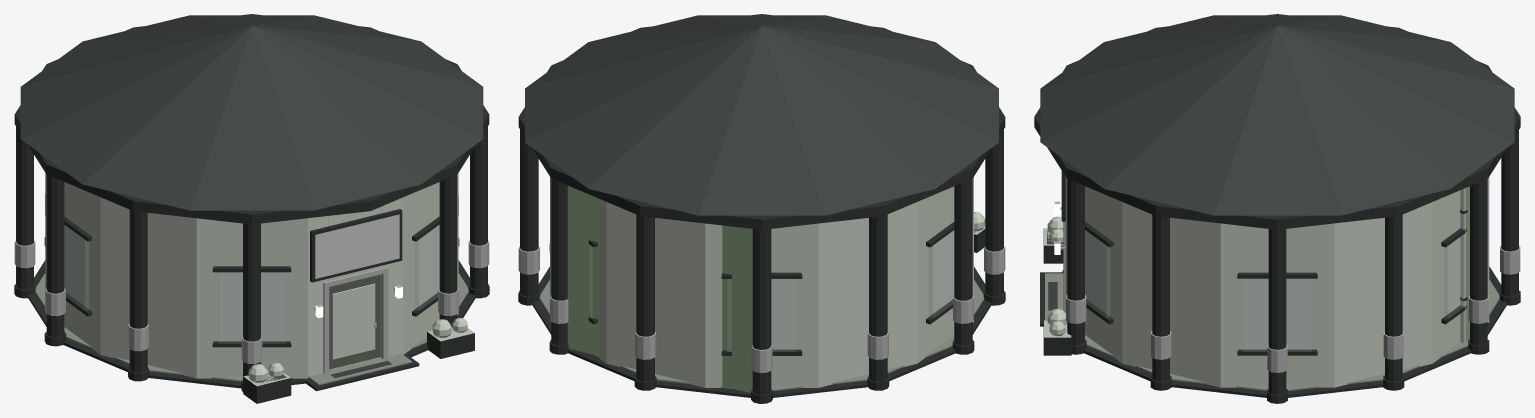
File: content2_v2.glb
The picture shows the model from 3 angles, left to right: view 1: azimuth 30°, elevation 25°; view 2: azimuth 150°, elevation 25°; view 3: azimuth 270°, elevation 25°; orthographic projection. The views are drawn at different scales.
Parts seen in each view (by area): view 1: SM_content2_v2_Shell, SM_content2_v2_Door, SM_content2_v2_Sign; view 2: SM_content2_v2_Shell; view 3: SM_content2_v2_Shell.
Boxes of the visible parts, x1,y1,x2,y2 form: SM_content2_v2_Shell: (14, 14, 489, 403); SM_content2_v2_Door: (329, 275, 379, 369); SM_content2_v2_Sign: (315, 214, 399, 278); SM_content2_v2_Shell: (518, 14, 1005, 403); SM_content2_v2_Shell: (1034, 14, 1520, 403).
Size of the model in its own units: 13.66 by 8.5 by 13.64.
